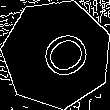O_SW: (23, 22, 90, 86)
